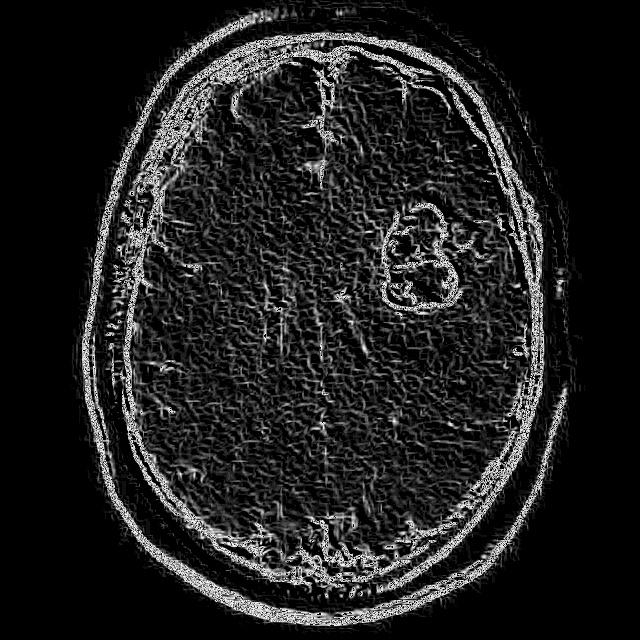Brain-Tumor: (365, 179, 485, 329)
